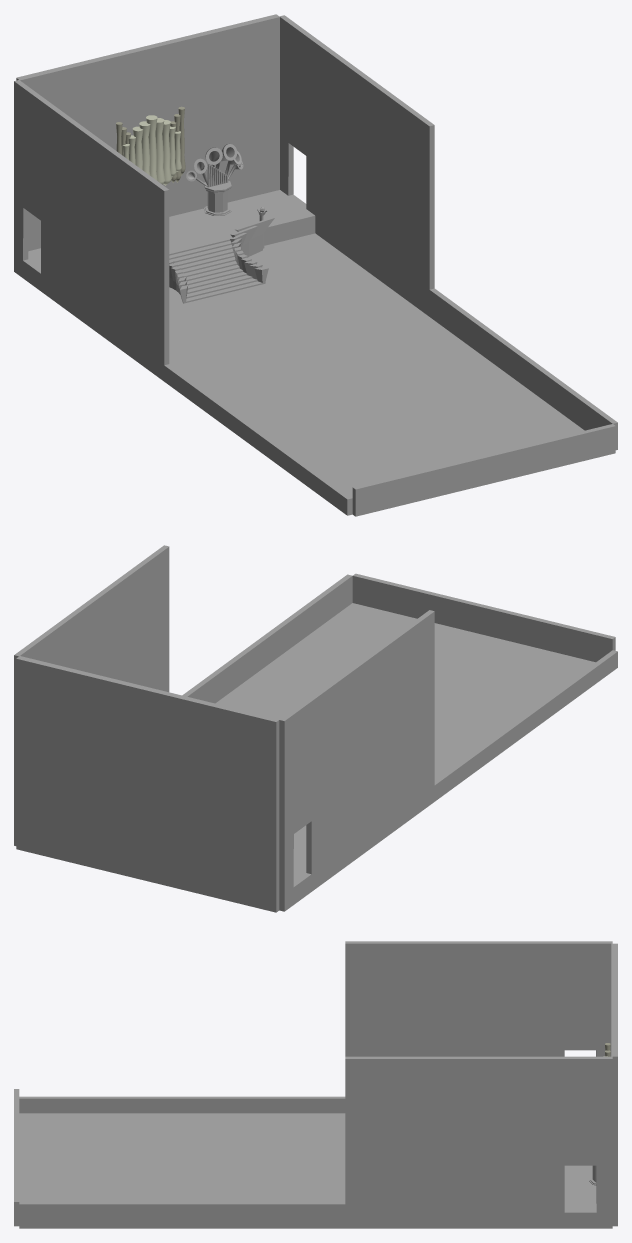
The model's file is testroom.fbx.
3 renders of one model, top to bottom at view 1: azimuth 30°, elevation 25°; view 2: azimuth 150°, elevation 25°; view 3: azimuth 270°, elevation 25°, orthographic. The views are drawn at different scales.
Parts seen in each view (by area): view 1: pPlane1, pCube16, pCube22, pCube18, pCube15, pCube19, pCube20, pCube21, organ2_concept:pCylinder20; view 2: pCube18, pCube16, pPlane1, pCube22, pCube19, pCube20, pCube21; view 3: pCube22, pCube16, pPlane1, pCube20, pCube21, pCube18, pCube15, pCube19.
Part boxes in pixels (x1,y1,x2,y2): pPlane1: (169,233,584,497); pCube16: (14,80,169,381); pCube22: (279,15,434,316); pCube18: (16,14,279,251); pCube15: (28,190,315,303); pCube19: (352,424,615,516); pCube20: (429,288,617,450); pCube21: (164,364,352,515); organ2_concept:pCylinder20: (186,144,243,215); pCube18: (16,656,279,912); pCube16: (279,610,434,911); pPlane1: (215,603,595,863); pCube22: (14,545,169,845); pCube19: (352,573,615,662); pCube20: (182,574,352,703); pCube21: (434,650,617,801); pCube22: (345,1056,612,1228); pCube16: (345,941,612,1056); pPlane1: (19,1113,345,1201); pCube20: (19,1202,345,1228); pCube21: (19,1096,345,1113); pCube18: (611,943,617,1226); pCube15: (564,1165,596,1210); pCube19: (14,1089,19,1226).
Bounding box in the file's own units: 52 × 35 × 113.
